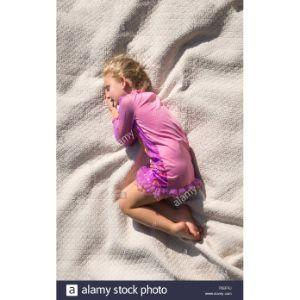sleep: (92, 54, 200, 240), (100, 79, 120, 104)
